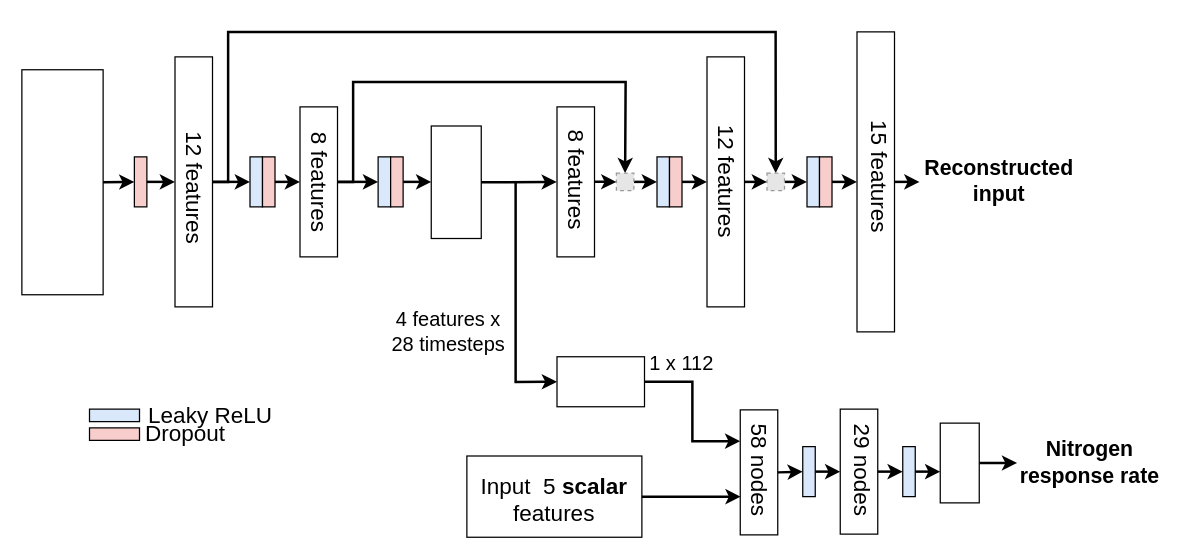
Some shapes in this 1185 by 559 pixel diagram are drawn without their labels. Grey dashed boxes stand in for pictures. The shapes that lost their labels are listed below. From the top down, each one's centre as x and y in pixels, then its label:
the point at 62,181: Input 15 timeserie s features
the point at 455,181: 4 features
the point at 600,381: flatten
the point at 959,462: 1 node
